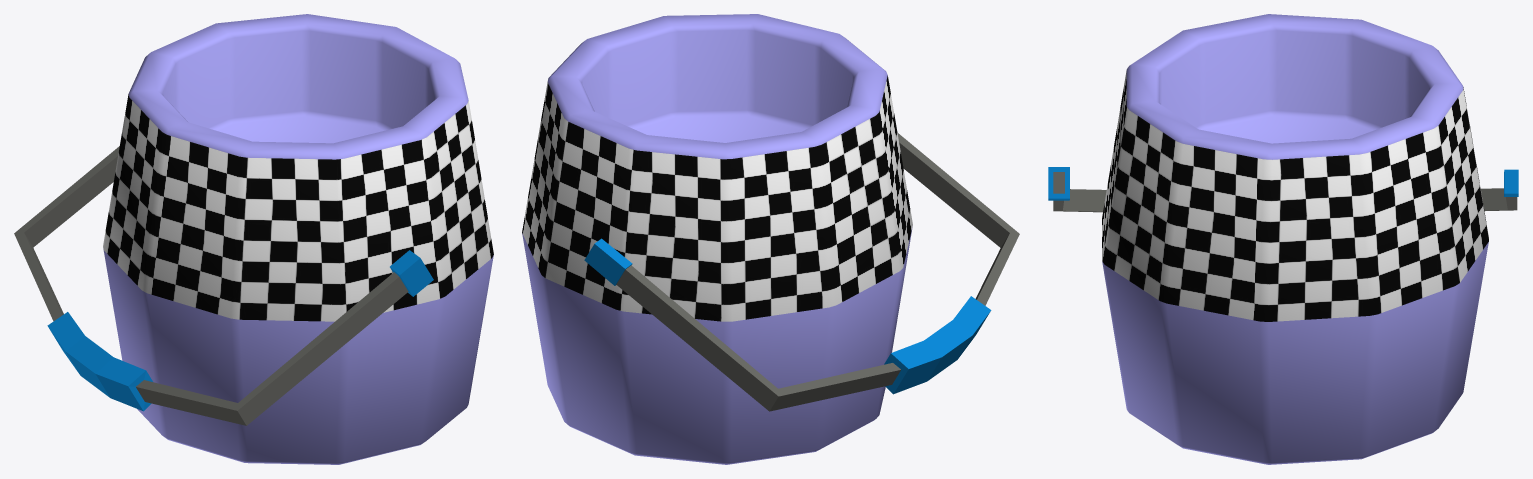
File: winning basket.fbx
3 renders of one model, left to right at view 1: azimuth 30°, elevation 25°; view 2: azimuth 150°, elevation 25°; view 3: azimuth 270°, elevation 25°, orthographic.
Parts seen in each view (by area): view 1: Plane; view 2: Plane; view 3: Plane.
Boxes of the visible parts, left/top/right/bottom form: Plane: left=14, top=14, right=493, bottom=464; Plane: left=522, top=14, right=1019, bottom=464; Plane: left=1048, top=14, right=1518, bottom=464.
Bounding box in the file's own units: 62.39 × 45.55 × 60.93.
Materials: 4 (1 with a texture image).
